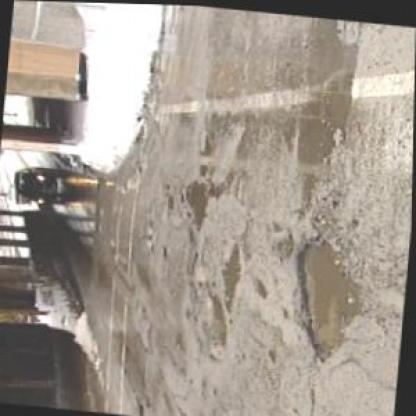pothole: (286, 229, 370, 363), (194, 280, 239, 361), (176, 176, 214, 230), (218, 238, 245, 308)
